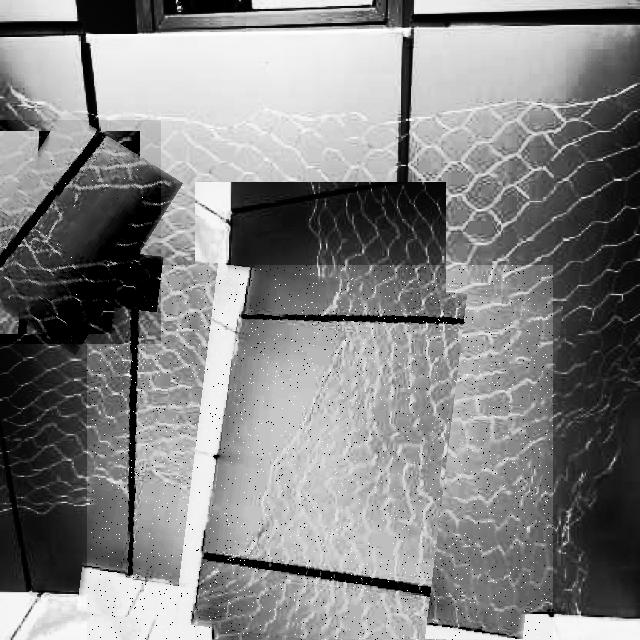anomaly-fence: (87, 265, 553, 640), (0, 120, 161, 344)
